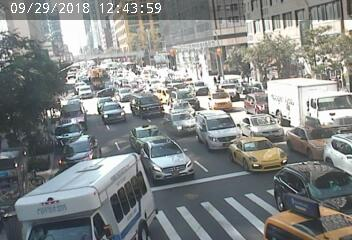car: (66, 175, 160, 240), (301, 206, 349, 240), (298, 166, 341, 197), (152, 147, 189, 174), (200, 112, 232, 143), (303, 83, 335, 106), (249, 113, 278, 136), (71, 137, 98, 159), (246, 92, 272, 111), (301, 126, 325, 146), (60, 96, 83, 115), (239, 142, 267, 157), (335, 133, 352, 152), (100, 106, 120, 120), (176, 84, 193, 100), (173, 115, 193, 126), (61, 123, 78, 135), (137, 98, 155, 109), (121, 86, 134, 101), (146, 126, 159, 138), (196, 82, 208, 93), (78, 86, 90, 95), (210, 94, 222, 101), (233, 86, 239, 94), (96, 99, 103, 100)
